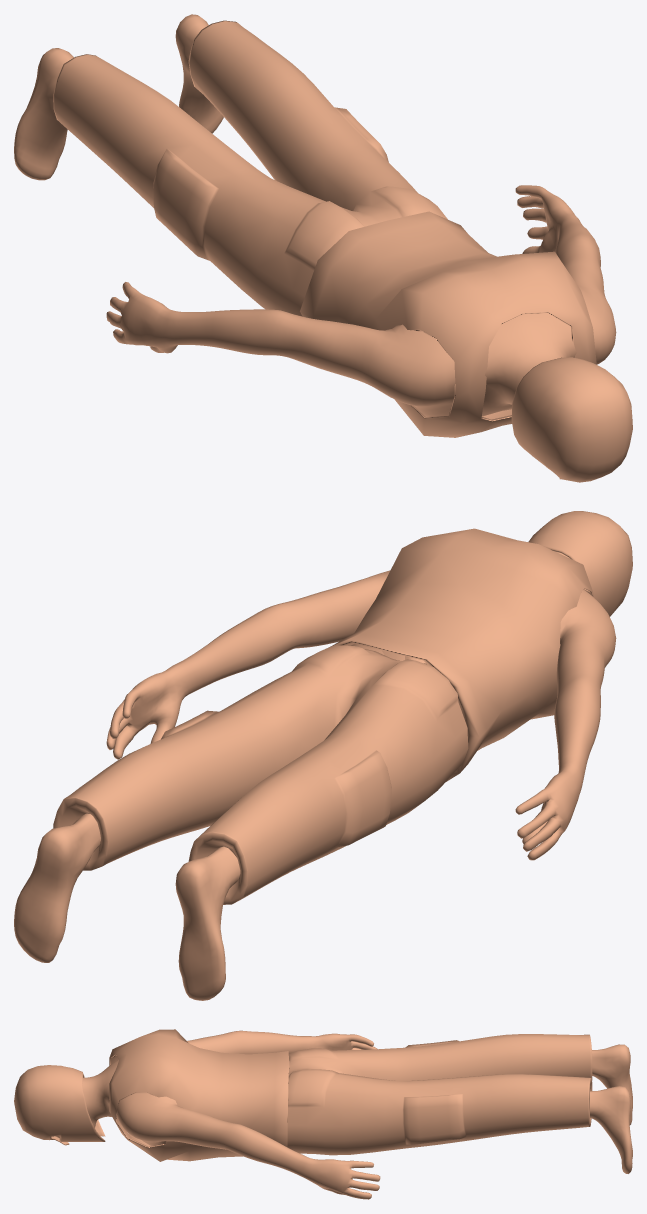
Rendered from ArmorBoyModel.obj.
3 renders of one model, top to bottom at view 1: azimuth 30°, elevation 25°; view 2: azimuth 150°, elevation 25°; view 3: azimuth 270°, elevation 25°, orthographic. The views are drawn at different scales.
Parts seen in each view (by area): view 1: HumanBody:humanBody1; view 2: HumanBody:humanBody1; view 3: HumanBody:humanBody1.
Boxes of the visible parts, left/top/right/bottom form: HumanBody:humanBody1: left=14, top=14, right=632, bottom=482; HumanBody:humanBody1: left=14, top=511, right=632, bottom=1000; HumanBody:humanBody1: left=14, top=1029, right=632, bottom=1199.
Size of the model in its own units: 95.48 by 35.66 by 183.
